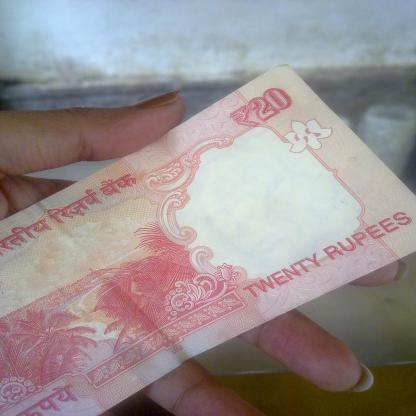Old20Back: (0, 65, 415, 415)
